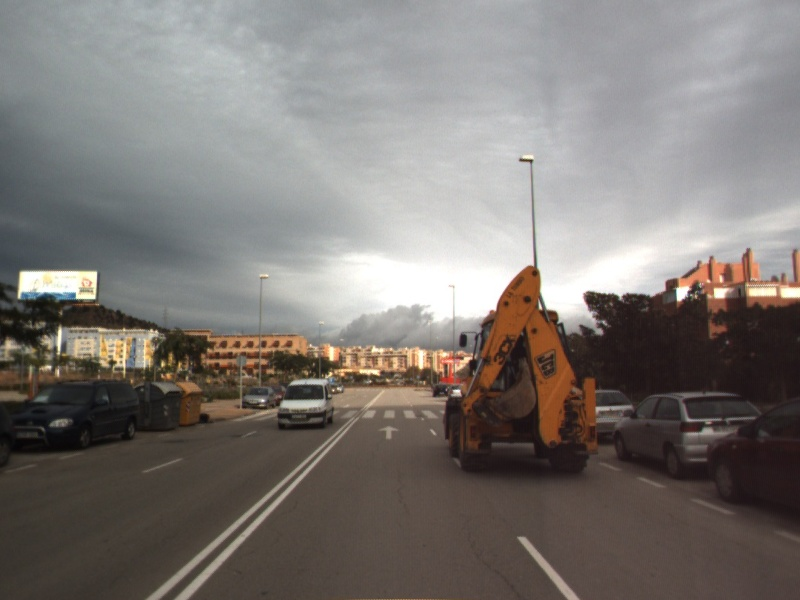STRAIGHT: (376, 424, 402, 441)
